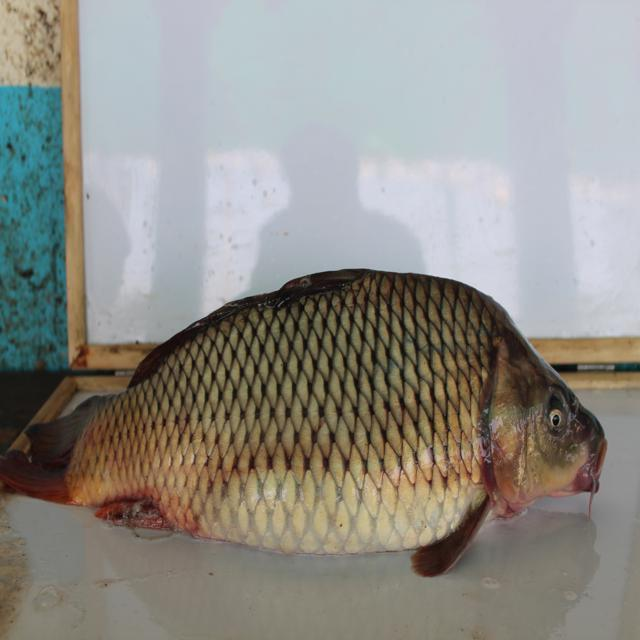CommonCarp: (1, 264, 616, 575)
